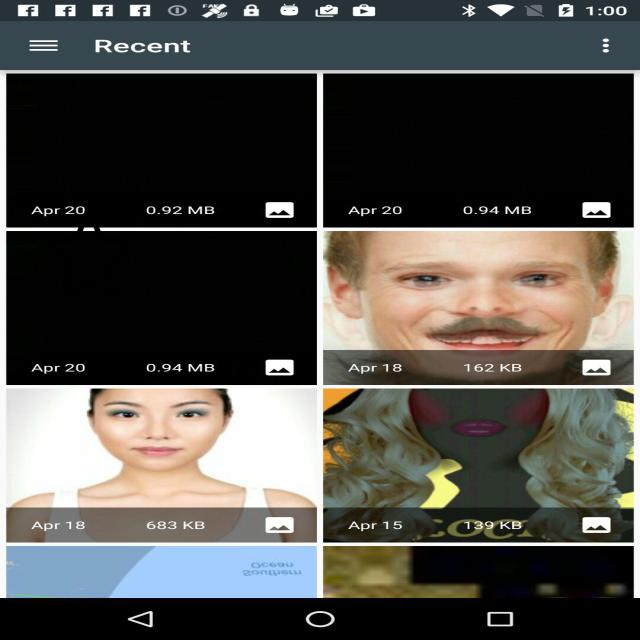forced continuity: (47, 206, 131, 300)
